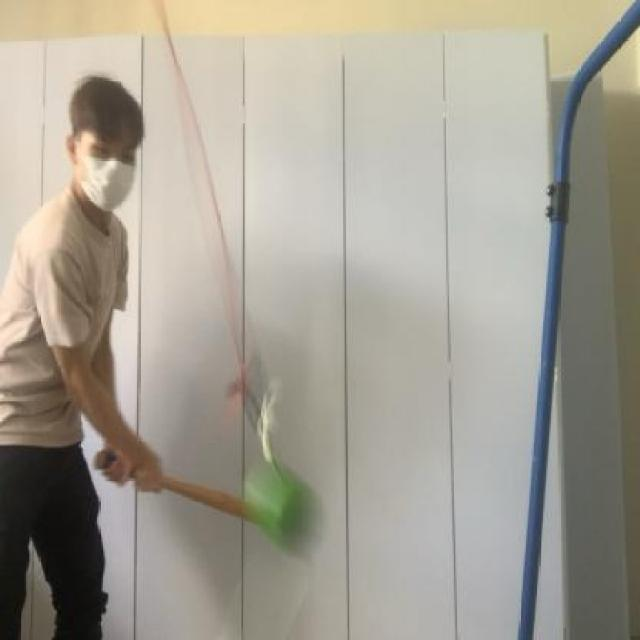baseball: (234, 444, 332, 568)
